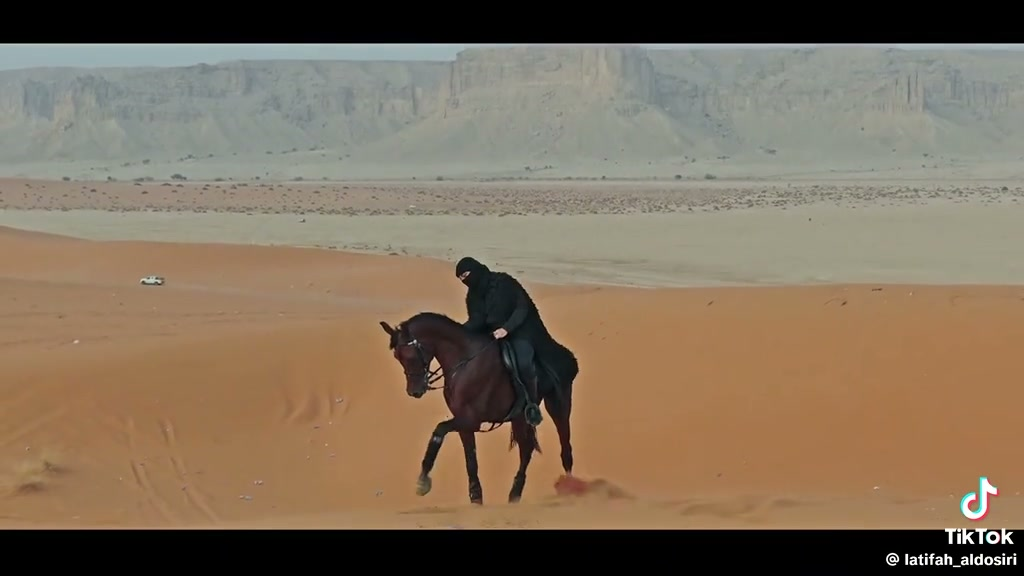animal: (380, 313, 540, 503)
human: (455, 257, 552, 426)
vehicle_track: (109, 402, 225, 543)
